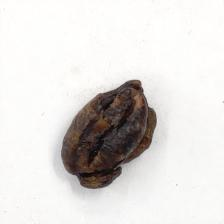NG: (62, 78, 157, 189)
